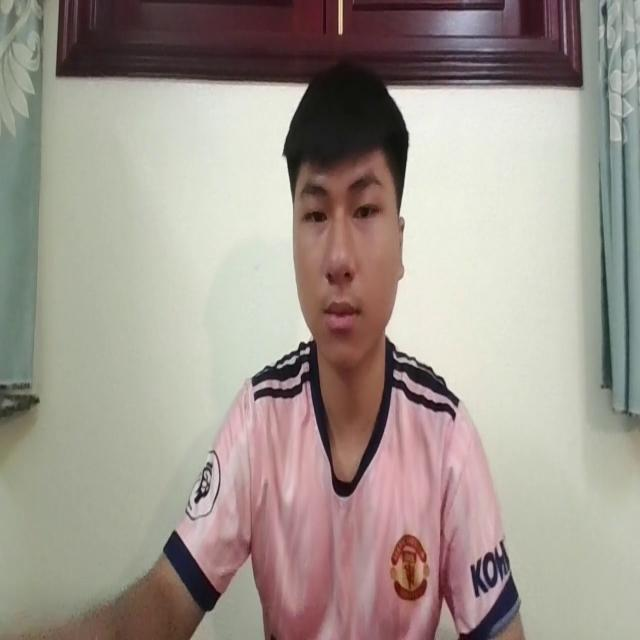student: (58, 50, 530, 640)
